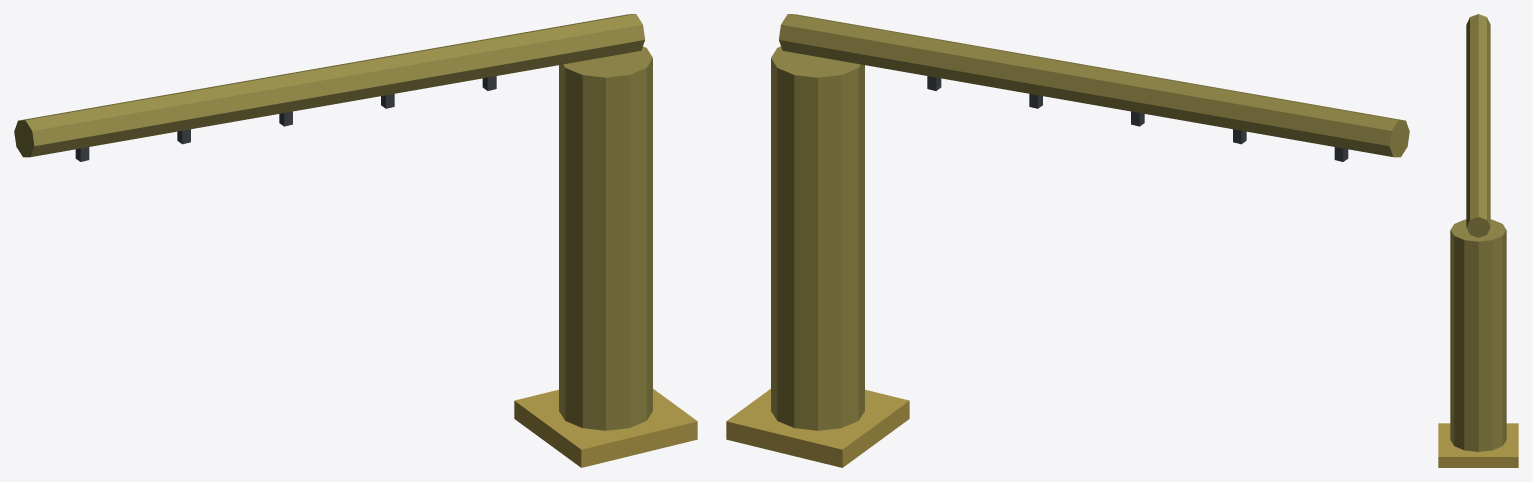
Rendered from spray_boom.glb.
3 renders of one model, left to right at view 1: azimuth 30°, elevation 25°; view 2: azimuth 150°, elevation 25°; view 3: azimuth 270°, elevation 25°, orthographic. The views are drawn at different scales.
Parts seen in each view (by area): view 1: LOD0; view 2: LOD0; view 3: LOD0.
Part boxes in pixels (x1,y1,x2,y2): LOD0: [14, 14, 697, 467]; LOD0: [726, 14, 1409, 467]; LOD0: [1438, 14, 1518, 467].
Size of what is drawn, in the model's own units: 22.04 by 14.8 by 4.
